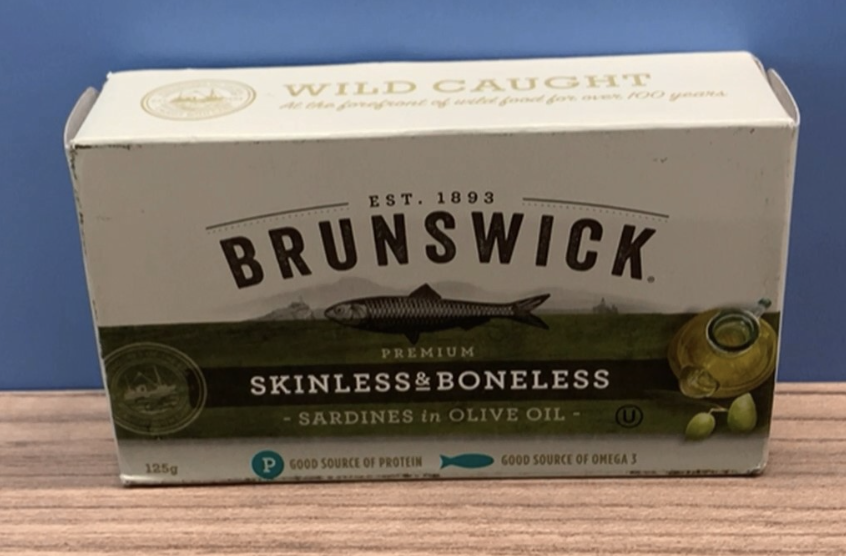sardines_100g-199g: (115, 82, 765, 471)
